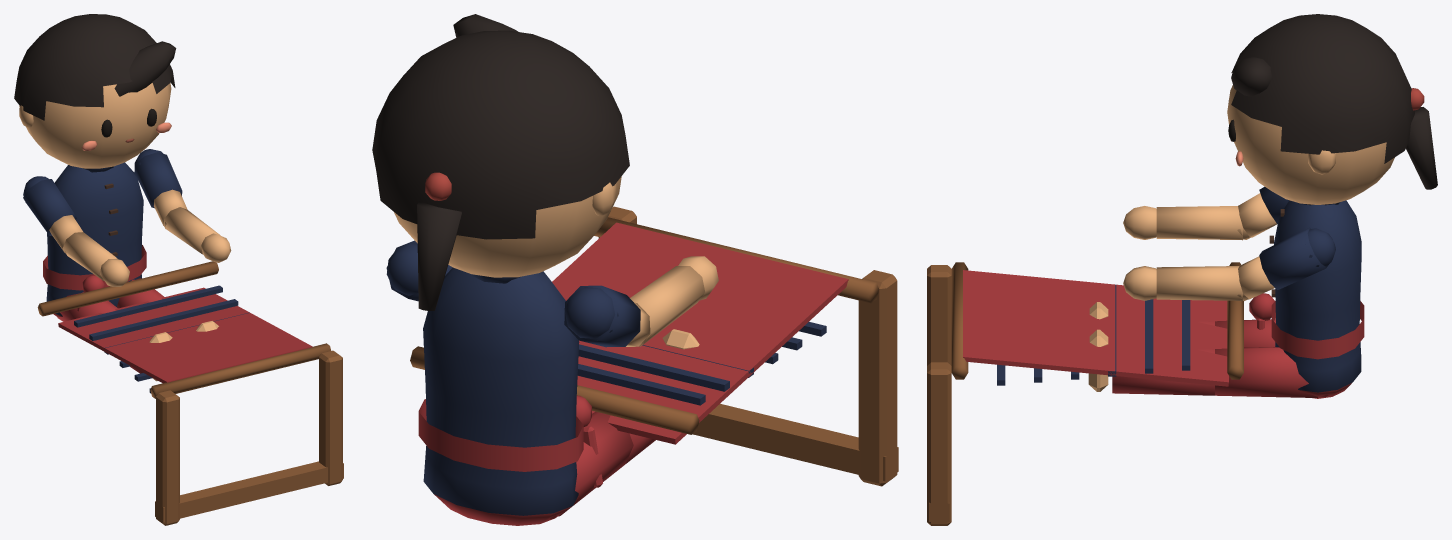
Rendered from west_loom_weaver.glb.
3 views of the same model, side by side, from view 1: azimuth 30°, elevation 25°; view 2: azimuth 150°, elevation 25°; view 3: azimuth 270°, elevation 25° (orthographic). The views are drawn at different scales.
Parts seen in each view (by area): view 1: prop_backstrap_loom, head, body, arm_L, arm_R, forearm_R, forearm_L, leg_R, leg_L; view 2: head, prop_backstrap_loom, body, arm_R, forearm_R, leg_R, arm_L, shin_R; view 3: prop_backstrap_loom, head, body, arm_L, forearm_L, forearm_R, leg_L, shin_L, arm_R, leg_R.
Part boxes in pixels (bbox=[...]): prop_backstrap_loom: bbox=[37, 261, 343, 525]; head: bbox=[14, 14, 176, 168]; body: bbox=[43, 162, 146, 316]; arm_L: bbox=[134, 149, 187, 228]; arm_R: bbox=[23, 176, 82, 253]; forearm_R: bbox=[62, 232, 129, 286]; forearm_L: bbox=[163, 207, 231, 262]; leg_R: bbox=[57, 292, 117, 321]; leg_L: bbox=[117, 278, 164, 308]; head: bbox=[372, 14, 629, 310]; prop_backstrap_loom: bbox=[410, 206, 898, 486]; body: bbox=[418, 267, 602, 525]; arm_R: bbox=[564, 285, 652, 347]; forearm_R: bbox=[630, 256, 718, 345]; leg_R: bbox=[549, 411, 633, 519]; arm_L: bbox=[386, 240, 452, 301]; shin_R: bbox=[626, 329, 699, 463]; prop_backstrap_loom: bbox=[927, 262, 1243, 525]; head: bbox=[1227, 14, 1437, 204]; body: bbox=[1249, 200, 1364, 398]; arm_L: bbox=[1237, 227, 1335, 300]; forearm_L: bbox=[1123, 266, 1248, 300]; forearm_R: bbox=[1123, 206, 1249, 240]; leg_L: bbox=[1215, 347, 1328, 397]; shin_L: bbox=[1088, 329, 1214, 395]; arm_R: bbox=[1237, 186, 1288, 239]; leg_R: bbox=[1215, 319, 1275, 347].
Size of the model in its own units: 0.62 by 1.21 by 1.24.
